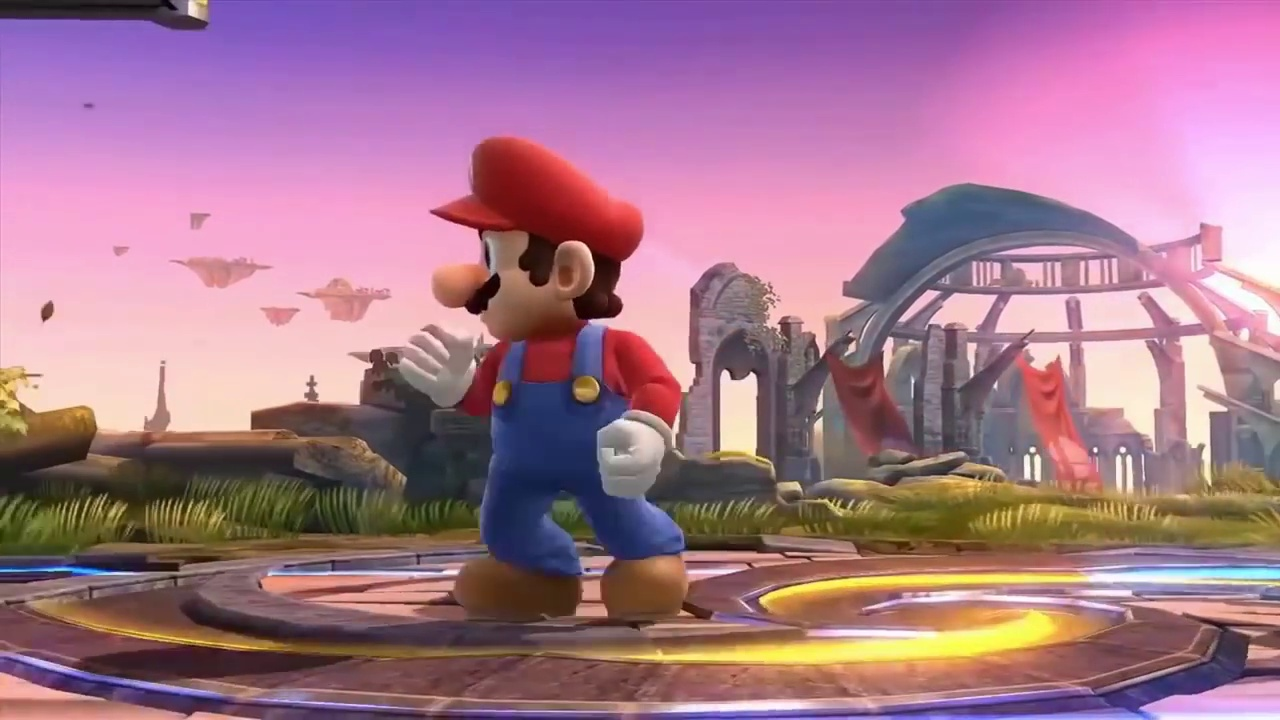Mario: (397, 136, 692, 615)
